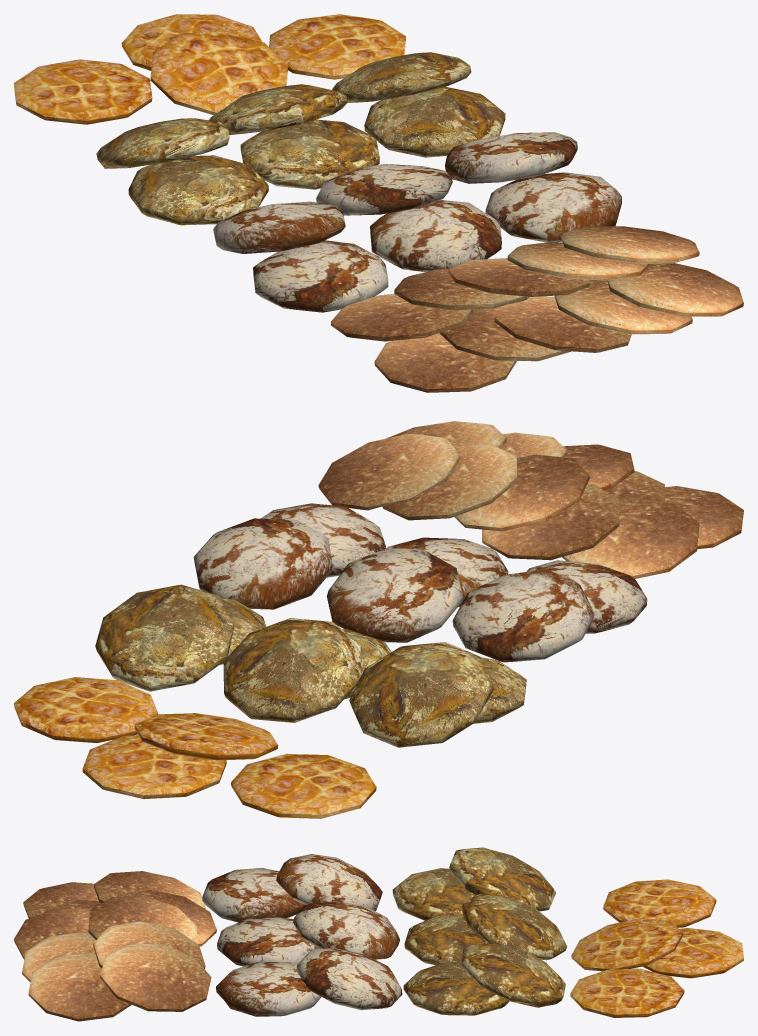
The model's file is bread_booth02_LOD02.fbx.
3 renders of one model, top to bottom at view 1: azimuth 30°, elevation 25°; view 2: azimuth 150°, elevation 25°; view 3: azimuth 270°, elevation 25°, orthographic. The views are drawn at different scales.
Parts seen in each view (by area): view 1: Mesh Object; view 2: Mesh Object; view 3: Mesh Object.
Part boxes in pixels (x1=…): Mesh Object: x1=14, y1=14, x2=743, y2=392; Mesh Object: x1=14, y1=421, x2=743, y2=818; Mesh Object: x1=14, y1=847, x2=743, y2=1021.
Bounding box in the file's own units: 0.8701 × 0.141 × 1.85.
